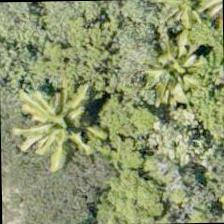Kelapa_Sawit: (10, 109, 102, 201), (132, 36, 224, 128)
